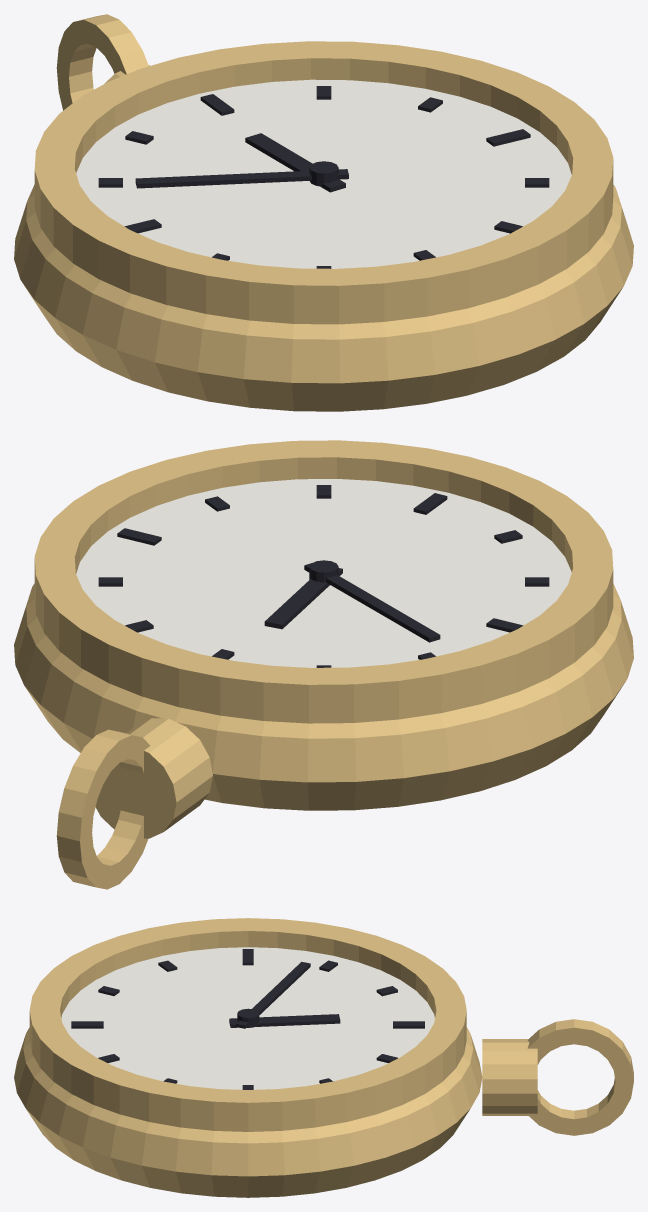
The model's file is Prop_PocketWatch1149.fbx.
The picture shows the model from 3 angles, top to bottom: view 1: azimuth 30°, elevation 25°; view 2: azimuth 150°, elevation 25°; view 3: azimuth 270°, elevation 25°; orthographic projection. The views are drawn at different scales.
Visible parts, largest first — view 1: Watch1149_Case, Watch1149_Dial, Watch1149_Hands; view 2: Watch1149_Case, Watch1149_Dial, Watch1149_Hands; view 3: Watch1149_Case, Watch1149_Dial, Watch1149_Hands.
Part boxes in pixels (x1,y1,x2,y2): Watch1149_Case: [14, 14, 633, 411]; Watch1149_Dial: [76, 79, 571, 268]; Watch1149_Hands: [98, 86, 549, 268]; Watch1149_Case: [14, 440, 633, 889]; Watch1149_Dial: [76, 479, 571, 667]; Watch1149_Hands: [98, 485, 549, 667]; Watch1149_Case: [14, 918, 633, 1197]; Watch1149_Dial: [61, 947, 434, 1089]; Watch1149_Hands: [71, 949, 424, 1089].
Size of the model in its own units: 0.051 by 0.0146 by 0.0675.
